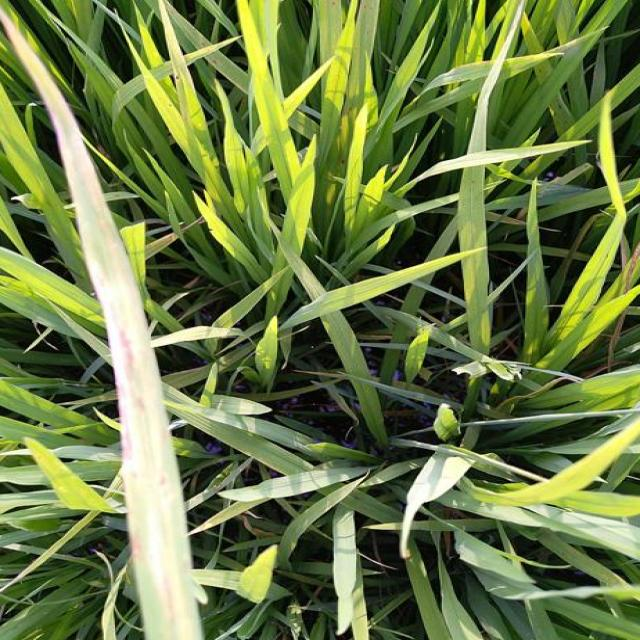Leaf Blight: (0, 5, 205, 640)
